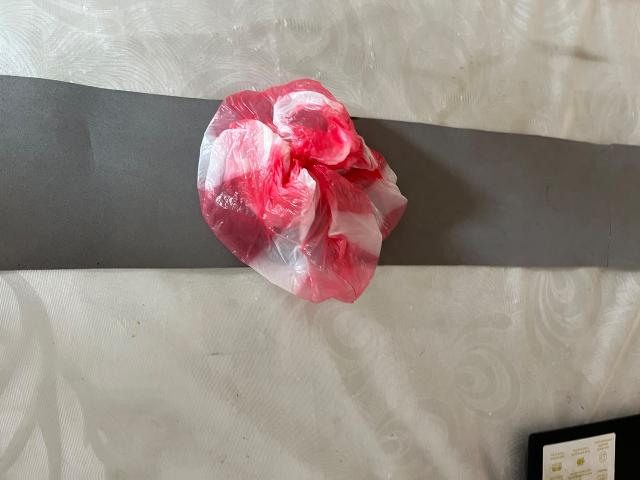LDPE: (171, 56, 431, 321)
